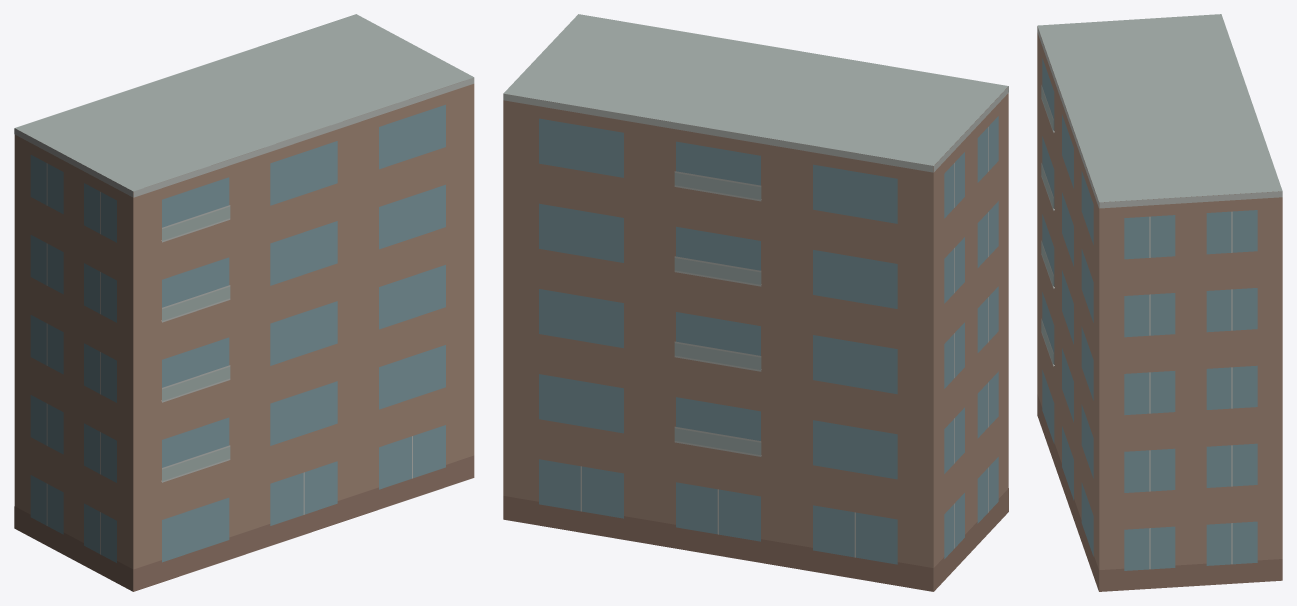
The model's file is survey-upis-33021919.glb.
3 renders of one model, left to right at view 1: azimuth 30°, elevation 25°; view 2: azimuth 150°, elevation 25°; view 3: azimuth 270°, elevation 25°, orthographic. The views are drawn at different scales.
Visible parts, largest first — view 1: survey-upis-33021919.tmp; view 2: survey-upis-33021919.tmp; view 3: survey-upis-33021919.tmp.
Part boxes in pixels (x1,y1,x2,y2): survey-upis-33021919.tmp: [14, 14, 474, 591]; survey-upis-33021919.tmp: [503, 14, 1008, 591]; survey-upis-33021919.tmp: [1037, 14, 1282, 591].
Bounding box in the file's own units: 16.19 × 15.6 × 8.92.
